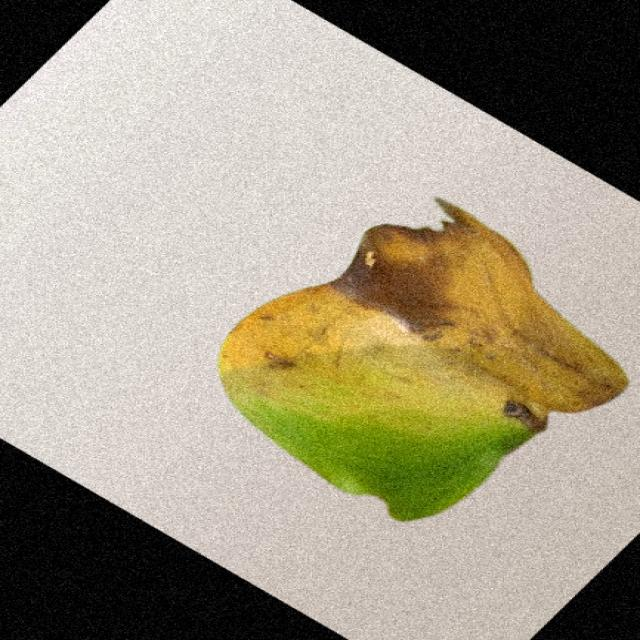daun berpenyakit kuning: (218, 199, 628, 521)
